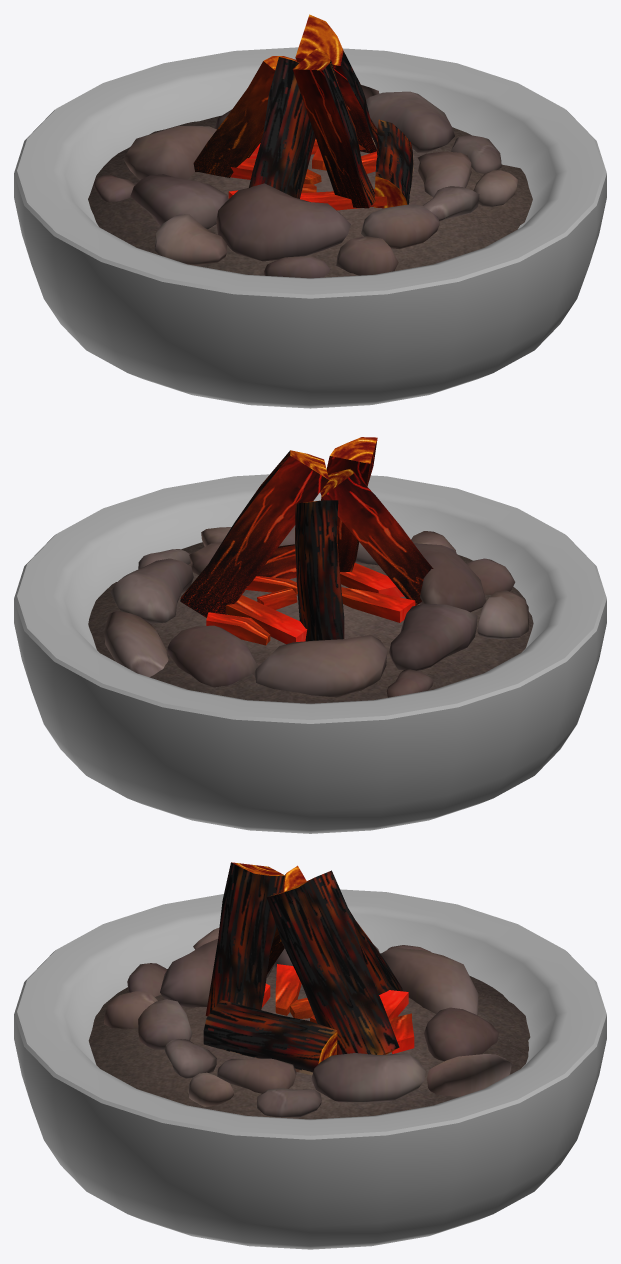
The model's file is firepit.fbx.
3 views of the same model, one above another, from view 1: azimuth 30°, elevation 25°; view 2: azimuth 150°, elevation 25°; view 3: azimuth 270°, elevation 25° (orthographic).
Parts seen in each view (by area): view 1: pSphere1, Cylinder003; view 2: pSphere1, Cylinder003; view 3: pSphere1, Cylinder003.
Boxes of the visible parts, x1,y1,x2,y2 form: pSphere1: (14, 47, 606, 408); Cylinder003: (88, 14, 532, 278); pSphere1: (14, 474, 606, 833); Cylinder003: (88, 437, 533, 703); pSphere1: (14, 889, 606, 1249); Cylinder003: (88, 862, 530, 1119).
Bounding box in the file's own units: 150 × 80.57 × 150.
Materials: 2 (1 with a texture image).
